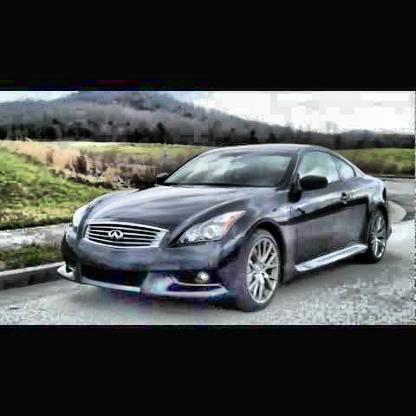Infiniti G Coupe IPL 2012: (56, 145, 394, 312)
